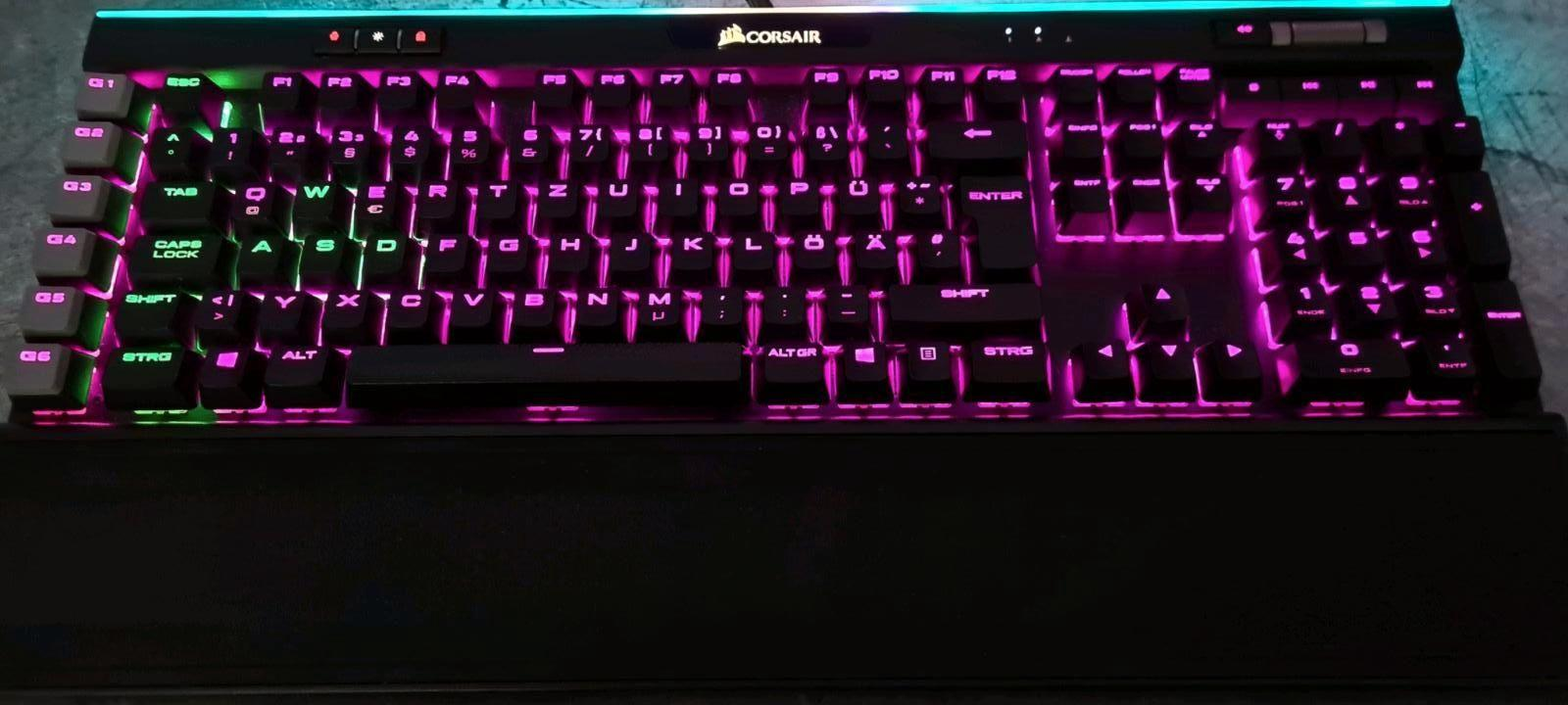0: (744, 122, 793, 164)
1: (205, 124, 248, 167)
2: (264, 119, 310, 165)
3: (324, 121, 368, 165)
4: (386, 121, 429, 169)
5: (447, 122, 491, 169)
6: (511, 122, 555, 165)
7: (566, 121, 611, 165)
8: (627, 120, 673, 165)
9: (683, 119, 730, 165)
a: (235, 230, 282, 279)
accent: (858, 117, 907, 159)
ae: (851, 231, 910, 281)
alt-left: (261, 344, 329, 386)
altgr-right: (759, 342, 827, 389)
b: (509, 286, 561, 329)
c: (384, 289, 429, 329)
caret: (146, 122, 192, 171)
comma: (698, 284, 744, 327)
d: (361, 234, 407, 278)
del: (918, 118, 1028, 160)
e: (353, 176, 398, 227)
enter: (956, 174, 1037, 271)
f: (421, 232, 466, 273)
g: (484, 233, 529, 274)
h: (546, 232, 592, 275)
hash: (914, 229, 960, 270)
i: (651, 175, 698, 216)
j: (608, 229, 652, 272)
k: (668, 232, 713, 272)
keyboard: (13, 14, 1554, 446)
l: (727, 229, 775, 271)
less: (192, 288, 240, 333)
m: (631, 285, 683, 332)
minus: (822, 281, 869, 329)
n: (573, 286, 618, 328)
o: (709, 177, 761, 220)
oe: (788, 230, 838, 272)
p: (775, 177, 821, 219)
plus: (894, 177, 943, 222)
point: (760, 285, 806, 326)
q: (228, 178, 273, 221)
r: (412, 177, 457, 218)
s: (297, 233, 343, 282)
shift-left: (114, 290, 181, 338)
shift-lock: (123, 227, 220, 285)
shift-right: (883, 281, 1041, 322)
space: (340, 341, 749, 383)
ss: (803, 120, 852, 163)
strg-left: (103, 345, 183, 392)
strg-right: (964, 337, 1050, 391)
t: (473, 179, 517, 220)
tab: (137, 175, 216, 222)
u: (593, 176, 638, 217)
ue: (835, 176, 882, 219)
v: (448, 287, 494, 327)
w: (290, 179, 338, 218)
x: (319, 288, 370, 329)
y: (256, 289, 306, 329)
z: (534, 177, 577, 217)
